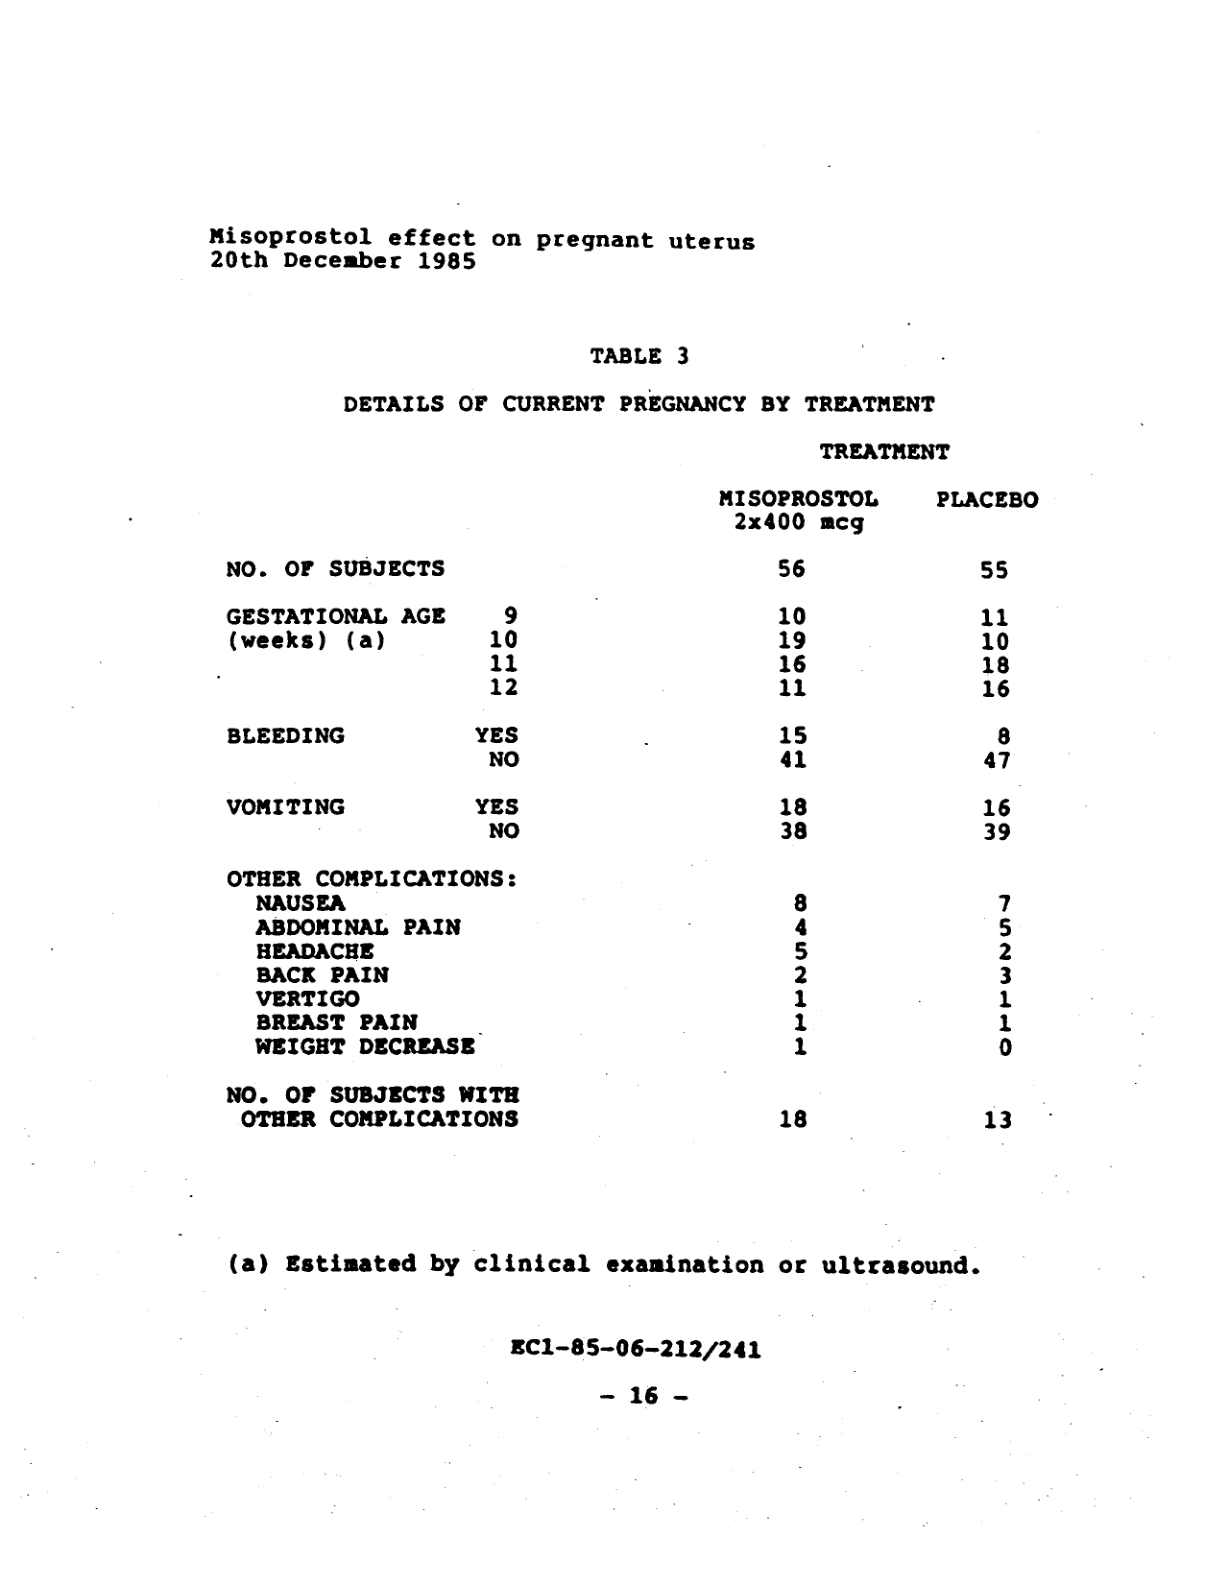nolines: (224, 489, 1041, 1131)
